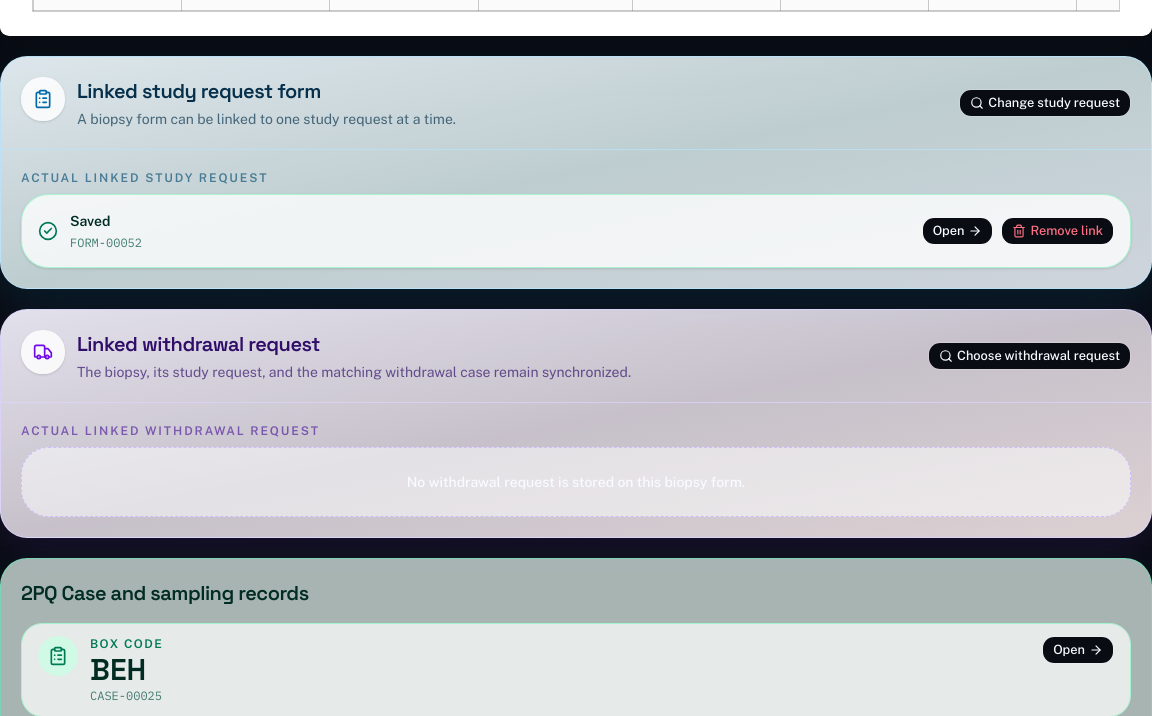
Scenario: TwoPQFormDetail › can manually select a withdrawal request from an unlinked biopsy
(page scrolled)
Click the button "Choose withdrawal request". click: {"x": 1030, "y": 356}
box: [928, 342, 1131, 370]
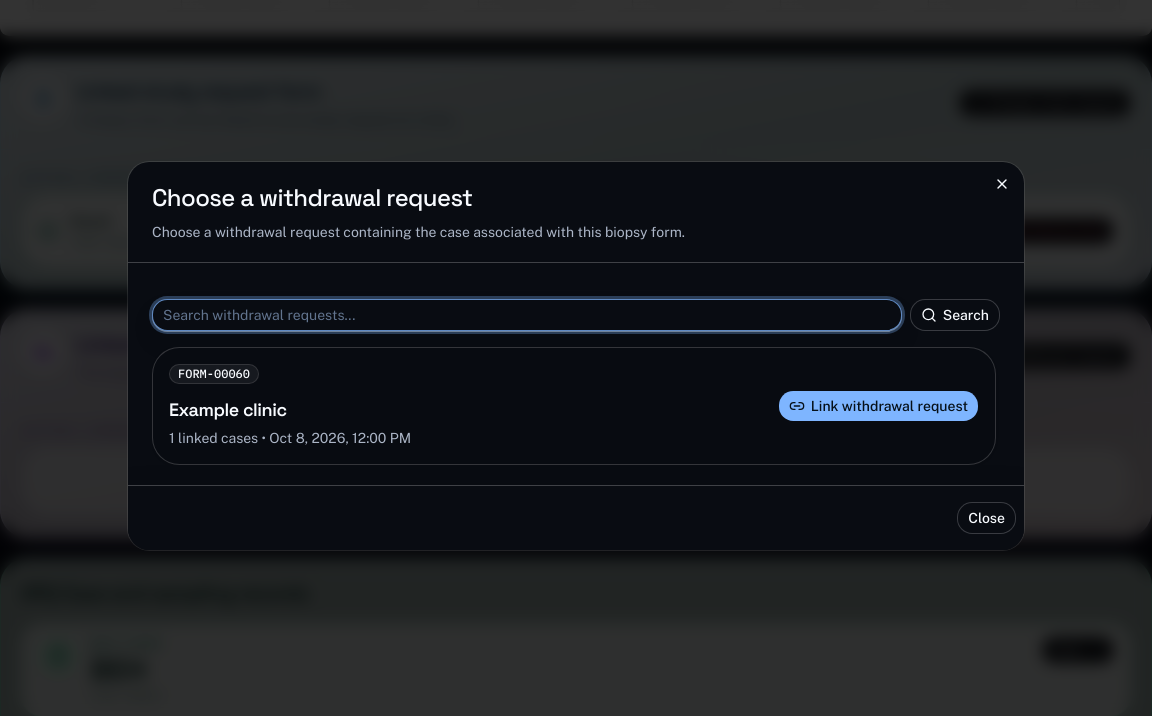
Click the button "Link withdrawal request". click: {"x": 878, "y": 406}
box: [778, 390, 979, 422]
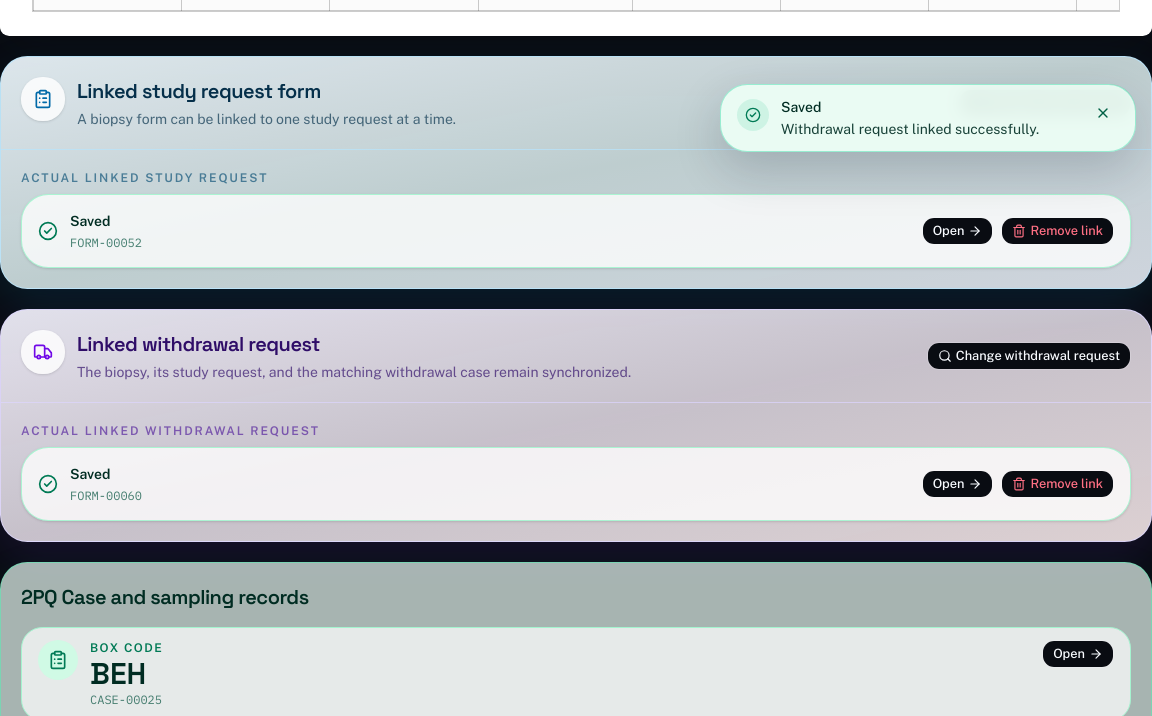
Expected: the text "FORM-00060" is shown, [70, 488, 142, 504]
